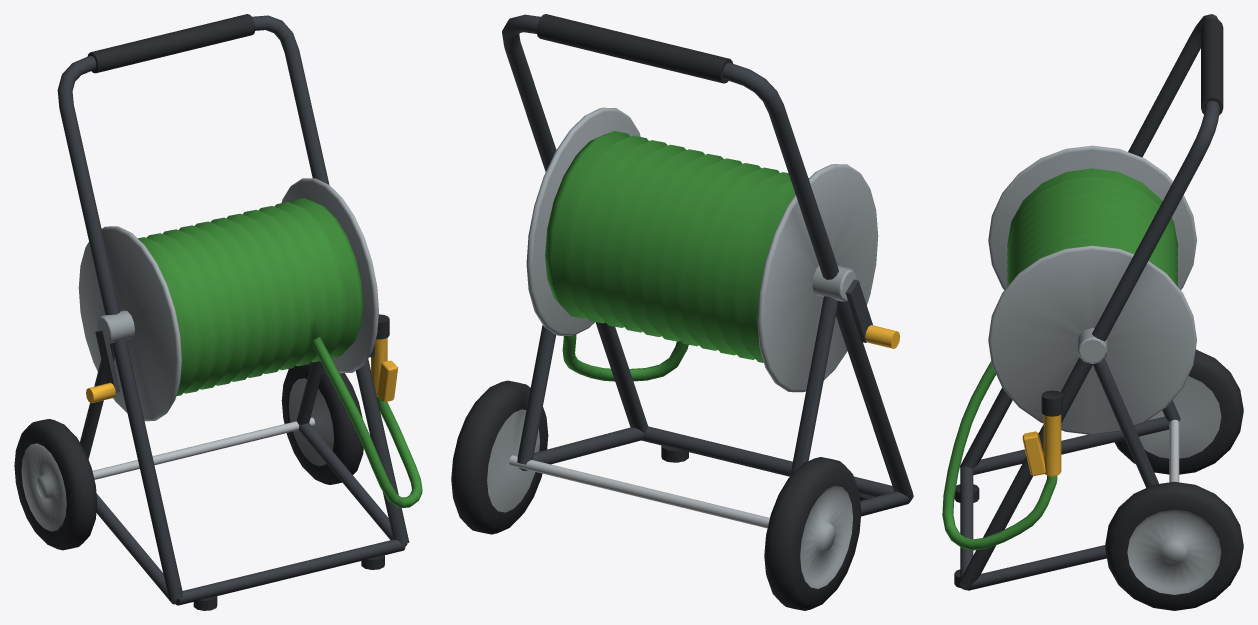
The model's file is hoseReel.glb.
3 views of the same model, side by side, from view 1: azimuth 30°, elevation 25°; view 2: azimuth 150°, elevation 25°; view 3: azimuth 270°, elevation 25° (orthographic). The views are drawn at different scales.
Parts seen in each view (by area): view 1: hoseReel; view 2: hoseReel; view 3: hoseReel.
Boxes of the visible parts, x1=… form: hoseReel: x1=14, y1=14, x2=422, y2=610; hoseReel: x1=451, y1=14, x2=913, y2=610; hoseReel: x1=942, y1=14, x2=1243, y2=610.
Bounding box in the file's own units: 0.5715 × 0.848 × 0.4788.
